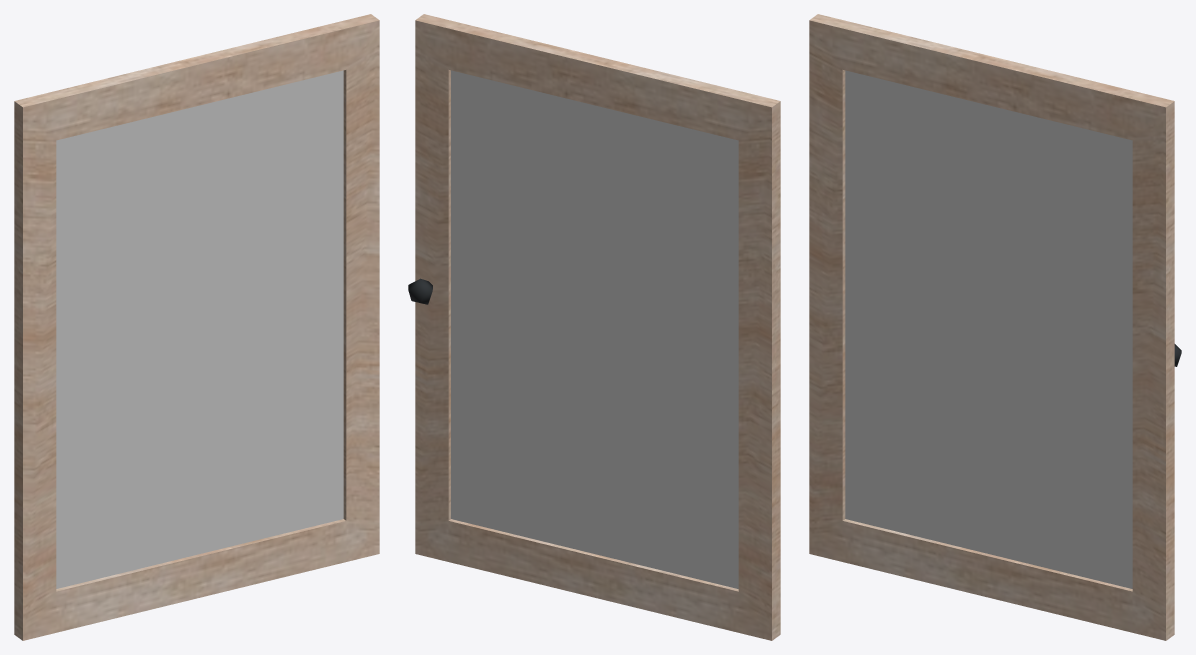
Rendered from Bathroom_cabinet_door_01.glb.
The picture shows the model from 3 angles, left to right: view 1: azimuth 30°, elevation 25°; view 2: azimuth 150°, elevation 25°; view 3: azimuth 330°, elevation 25°; orthographic projection.
Parts seen in each view (by area): view 1: Bathroom_cabinet_door_01; view 2: Bathroom_cabinet_door_01; view 3: Bathroom_cabinet_door_01.
Boxes of the visible parts, left/top/right/bottom form: Bathroom_cabinet_door_01: left=14, top=14, right=379, bottom=640; Bathroom_cabinet_door_01: left=408, top=14, right=780, bottom=640; Bathroom_cabinet_door_01: left=809, top=14, right=1181, bottom=640.
Bounding box in the file's own units: 0.3534 × 0.5049 × 0.0361.
Materials: 3 (2 with a texture image).
